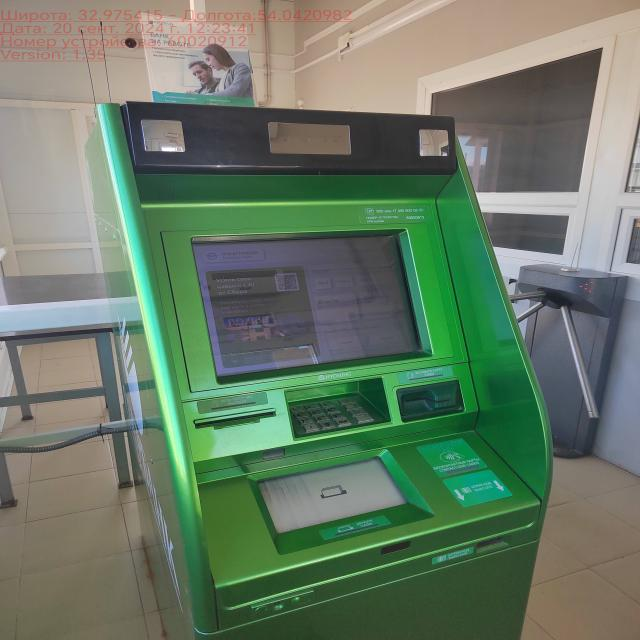bank: (85, 103, 553, 640)
